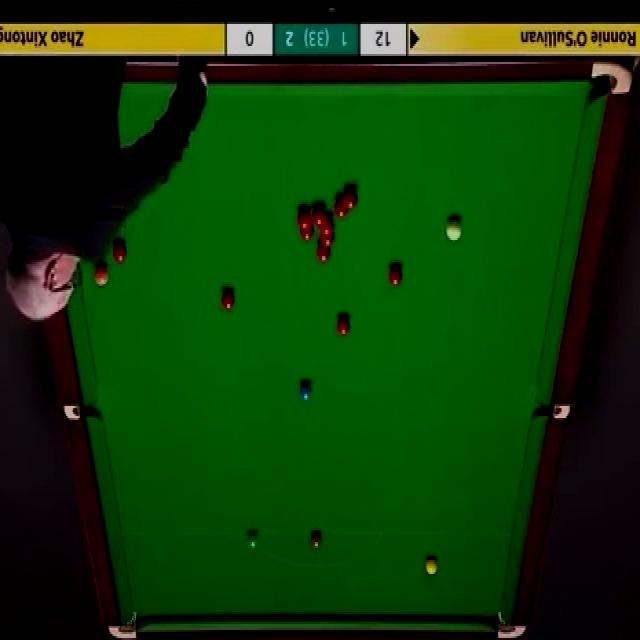blue-ball: (298, 381, 312, 402)
brown-ball: (310, 530, 324, 550)
green-ball: (244, 530, 260, 549)
pink-ball: (92, 263, 110, 286)
red-ball: (112, 240, 127, 266), (220, 290, 237, 312), (342, 187, 358, 210), (319, 216, 335, 239), (336, 314, 351, 338), (388, 264, 403, 287), (296, 210, 311, 232), (317, 242, 331, 264), (333, 197, 347, 218), (320, 229, 336, 247), (312, 206, 326, 224), (300, 224, 314, 242)
white-ball: (446, 219, 463, 243)
yellow-ball: (426, 554, 438, 575)
